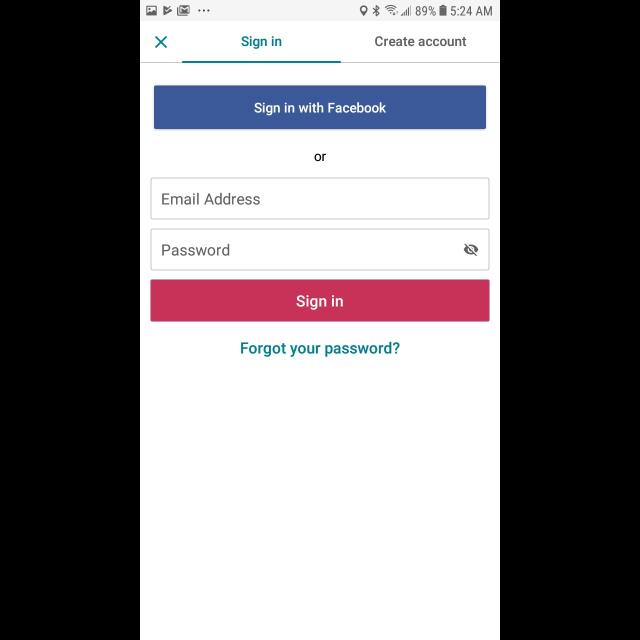icon: (464, 244, 478, 256), (156, 36, 168, 49)
input: (150, 229, 490, 271), (150, 178, 490, 220)
text: (240, 342, 400, 358), (163, 192, 261, 205), (375, 36, 467, 48), (162, 244, 230, 256), (242, 36, 282, 50), (314, 154, 326, 162)
textbutton: (154, 86, 486, 130), (151, 280, 489, 322)
uppertaskbar: (140, 1, 500, 22)
